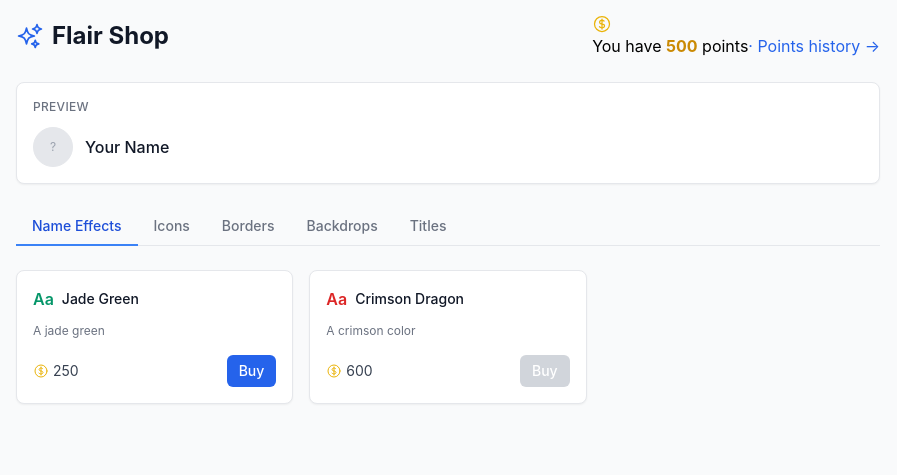
Shop page › retired items › only shows retired items that belong to the active tab
The width and height of the screenshot is (897, 475).
Expected: the heading "owned (retired)" is not shown
Click the button "Titles" at (428, 227), box [394, 208, 462, 246]
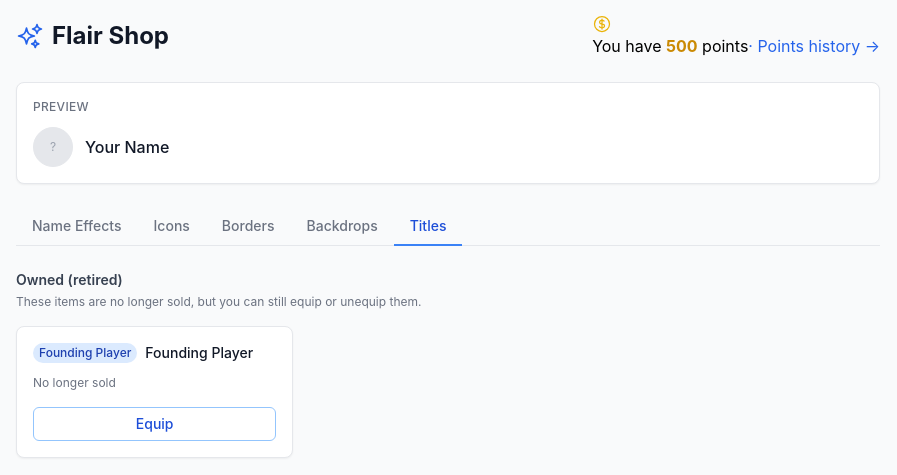
Expected: the heading "Owned (retired)" is shown, [16, 271, 123, 288]
Expected: the element with test id "flair-item-card-retiredTitle1" is shown, [16, 326, 293, 458]
